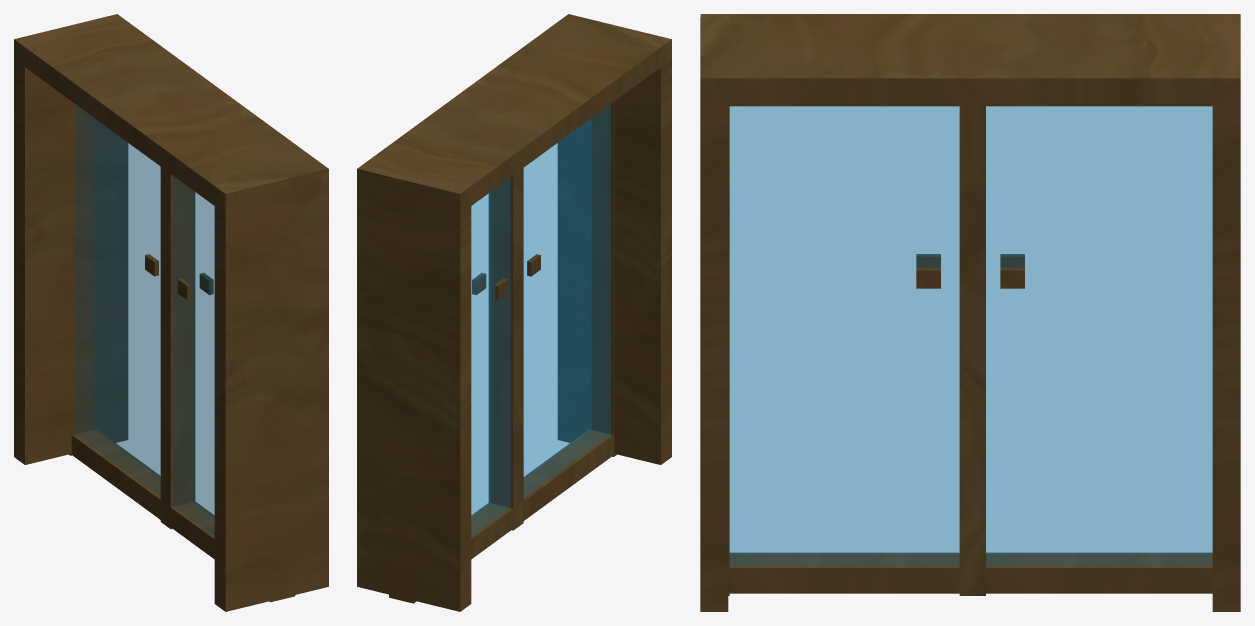
Rendered from portaDuplaF.fbx.
3 renders of one model, left to right at view 1: azimuth 30°, elevation 25°; view 2: azimuth 150°, elevation 25°; view 3: azimuth 270°, elevation 25°, orthographic. The views are drawn at different scales.
Visible parts, largest first — view 1: Cube.081, Cube.080, Cube.078, Cube.079, Cube.065, Cube.069, Cube.075, Cube.076, Cube.068; view 2: Cube.080, Cube.081, Cube.065, Cube.079, Cube.078, Cube.076, Cube.067, Cube.068, Cube.075, Cube.069; view 3: Cube.065, Cube.078, Cube.079, Cube.080, Cube.081, Cube.069, Cube.068, Cube.075, Cube.076, Cube.067, Cube.066.
Part boxes in pixels (box(x1,y1,x2,y2)): Cube.081: box(214, 171, 328, 611); Cube.080: box(14, 42, 128, 464); Cube.078: box(75, 104, 160, 496); Cube.079: box(14, 14, 328, 213); Cube.065: box(174, 177, 214, 535); Cube.069: box(161, 167, 195, 529); Cube.075: box(71, 429, 170, 520); Cube.076: box(160, 167, 169, 526); Cube.068: box(161, 501, 214, 559); Cube.080: box(357, 171, 471, 611); Cube.081: box(557, 47, 671, 464); Cube.065: box(523, 104, 610, 497); Cube.079: box(357, 14, 671, 213); Cube.078: box(471, 178, 510, 535); Cube.076: box(488, 169, 522, 530); Cube.067: box(589, 101, 616, 456); Cube.068: box(516, 429, 613, 520); Cube.075: box(471, 502, 522, 559); Cube.069: box(514, 168, 523, 523); Cube.065: box(729, 106, 959, 565); Cube.078: box(986, 106, 1212, 565); Cube.079: box(700, 14, 1240, 103); Cube.080: box(1212, 82, 1240, 611); Cube.081: box(700, 17, 728, 611); Cube.069: box(959, 104, 984, 595); Cube.068: box(729, 552, 983, 593); Cube.075: box(964, 552, 1212, 593); Cube.076: box(961, 104, 985, 595); Cube.067: box(728, 104, 729, 595); Cube.066: box(729, 104, 983, 106).
Bounding box in the file's own units: 161 × 626 × 570.
